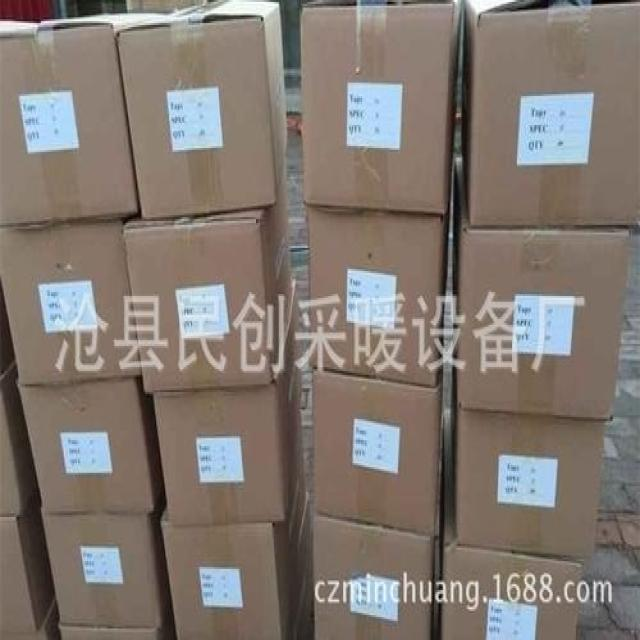box: (452, 156, 630, 420), (120, 154, 296, 394), (462, 1, 639, 226), (0, 9, 178, 223), (154, 286, 303, 527), (301, 2, 457, 215), (452, 343, 608, 556), (441, 406, 584, 637), (158, 450, 313, 638), (314, 411, 443, 636), (305, 201, 448, 382), (314, 343, 445, 534), (0, 219, 142, 386), (19, 376, 165, 514), (41, 483, 170, 627), (1, 495, 58, 637), (1, 362, 38, 518), (62, 608, 178, 636), (287, 564, 314, 637), (0, 263, 16, 379), (39, 605, 61, 637)
